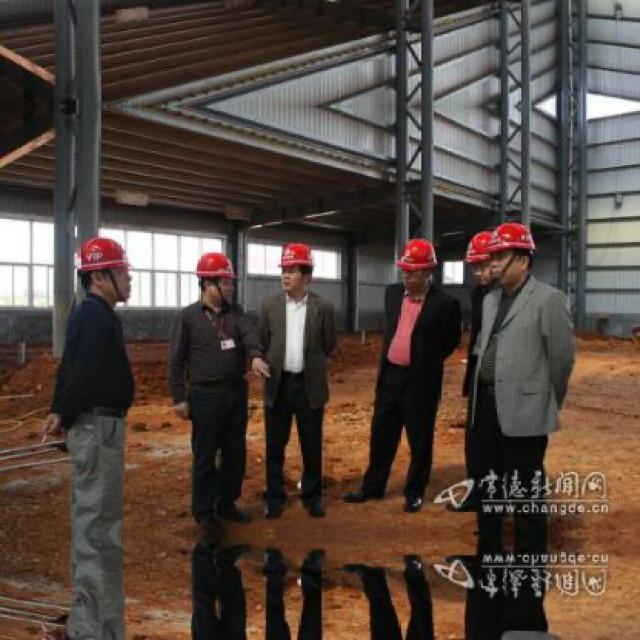helmet: (74, 234, 137, 307), (488, 220, 537, 288), (397, 238, 441, 293), (194, 247, 235, 305), (277, 241, 314, 293), (469, 233, 498, 290)
